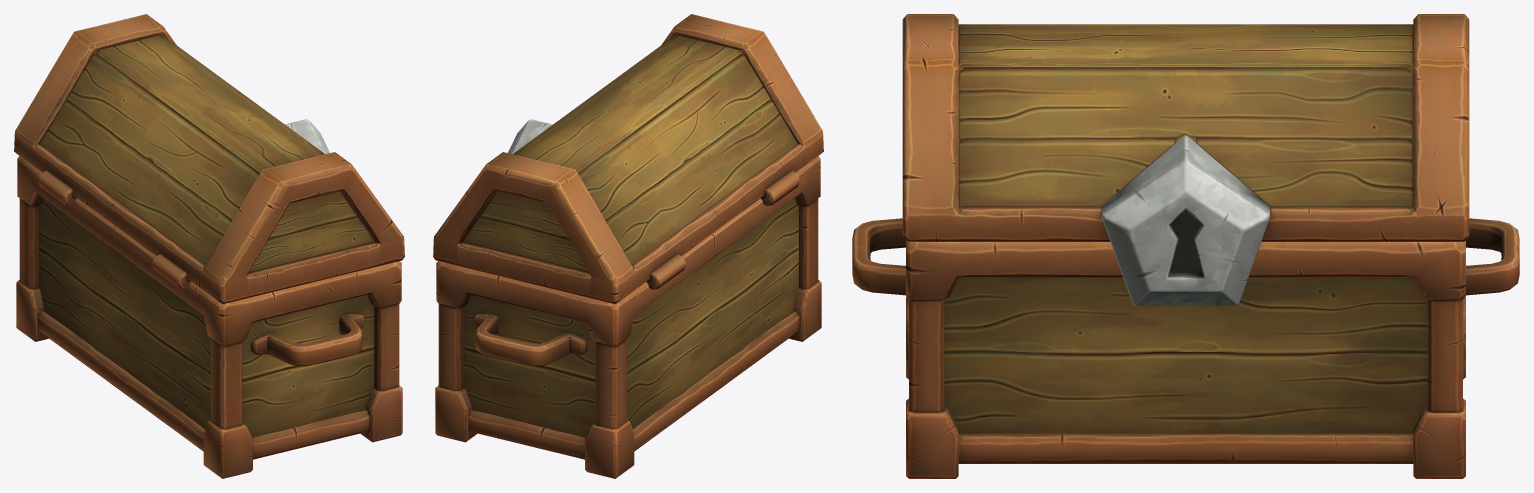
File: SM_Medium_Treasure_Chest.fbx
3 renders of one model, left to right at view 1: azimuth 30°, elevation 25°; view 2: azimuth 150°, elevation 25°; view 3: azimuth 270°, elevation 25°, orthographic. The views are drawn at different scales.
Parts seen in each view (by area): view 1: SM_Medium_Treasure_Chest_LOD0; view 2: SM_Medium_Treasure_Chest_LOD0; view 3: SM_Medium_Treasure_Chest_LOD0.
Boxes of the visible parts, left/top/right/bottom form: SM_Medium_Treasure_Chest_LOD0: left=14, top=14, right=404, bottom=478; SM_Medium_Treasure_Chest_LOD0: left=433, top=14, right=823, bottom=478; SM_Medium_Treasure_Chest_LOD0: left=852, top=14, right=1519, bottom=478.
Bounding box in the file's own units: 54.39 × 109 × 69.04.
2 materials, 2 textured.
